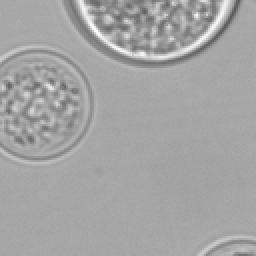picoshell: (0, 44, 94, 164), (62, 0, 238, 64), (196, 234, 254, 254)
